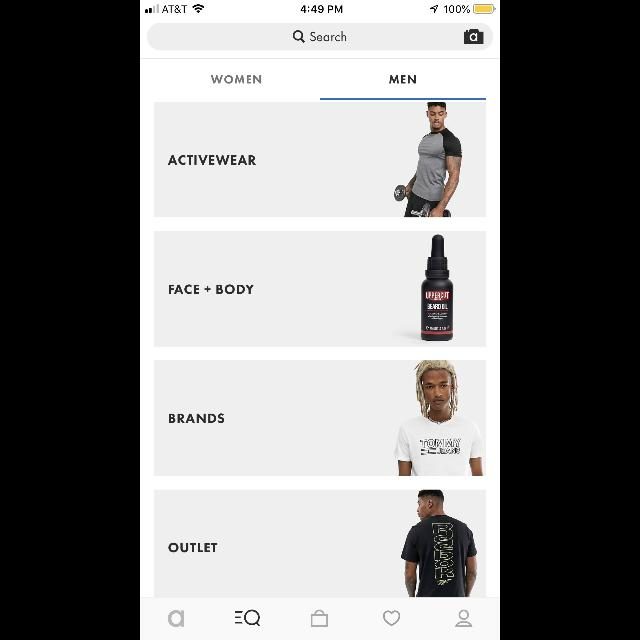icon: (236, 610, 260, 626), (310, 610, 328, 626), (384, 610, 401, 626), (456, 610, 472, 626), (293, 31, 305, 44)
image: (394, 360, 484, 476), (400, 489, 478, 596), (394, 102, 462, 218), (421, 235, 454, 342), (464, 30, 484, 44)
input: (147, 23, 493, 51)
text: (168, 155, 256, 165), (168, 284, 254, 294), (170, 413, 224, 423), (168, 543, 218, 553), (210, 76, 262, 84), (310, 32, 346, 42), (168, 610, 185, 628), (390, 76, 416, 84)
uppertaskbar: (140, 0, 500, 14)
